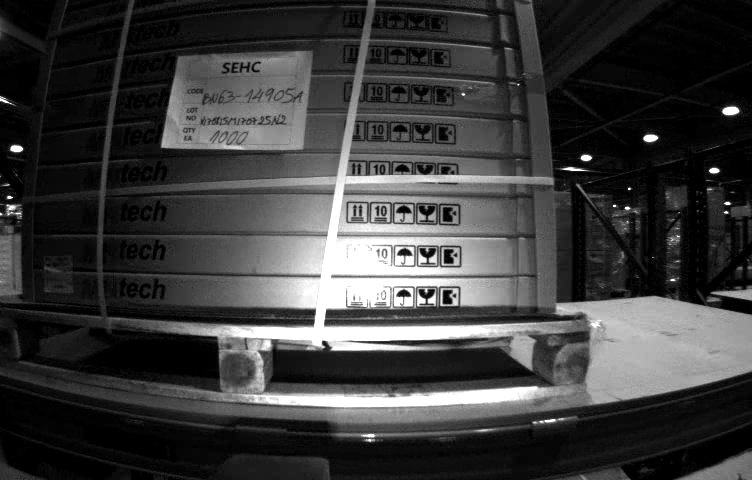True Barcode: (43, 255, 71, 292)
